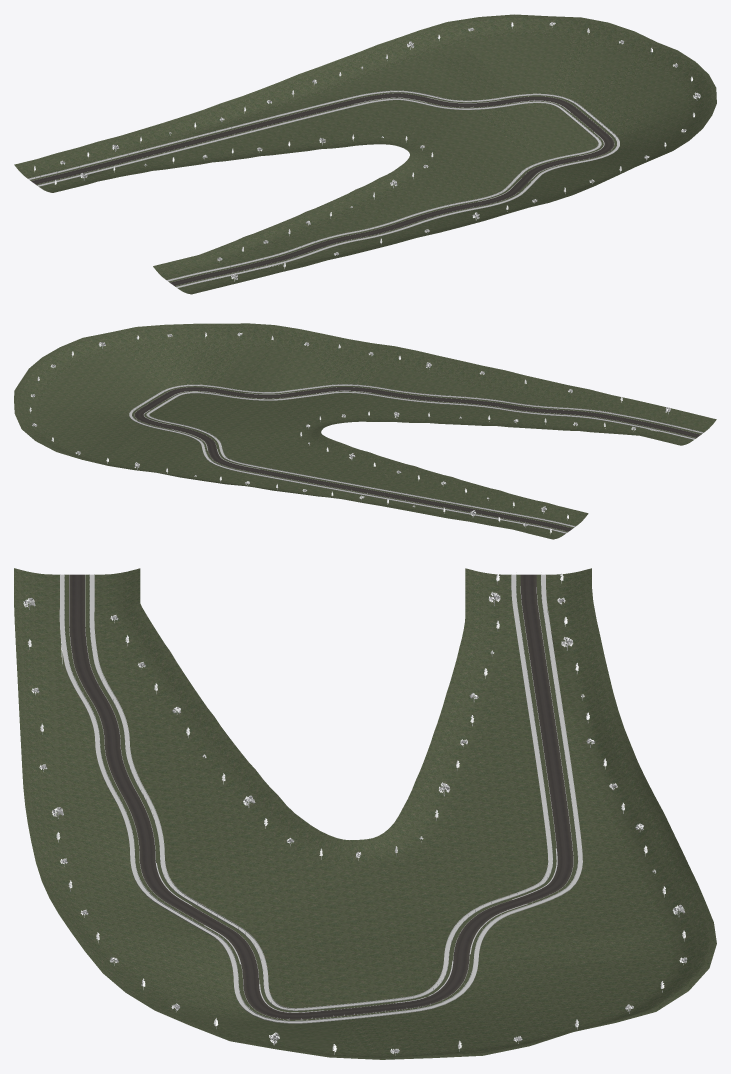
The picture shows the model from 3 angles, top to bottom: view 1: azimuth 30°, elevation 25°; view 2: azimuth 150°, elevation 25°; view 3: azimuth 270°, elevation 25°; orthographic projection. The views are drawn at different scales.
Parts seen in each view (by area): view 1: Grass, Track, Road, Trees; view 2: Grass, Track, Road, Trees; view 3: Grass, Road, Track, Trees.
Boxes of the visible parts, x1=… form: Grass: x1=14, y1=14, x2=716, y2=294; Track: x1=28, y1=90, x2=619, y2=288; Road: x1=31, y1=93, x2=614, y2=285; Trees: x1=34, y1=22, x2=700, y2=281; Grass: x1=14, y1=323, x2=716, y2=539; Track: x1=129, y1=384, x2=703, y2=533; Road: x1=134, y1=387, x2=700, y2=531; Trees: x1=29, y1=332, x2=670, y2=533; Grass: x1=14, y1=568, x2=716, y2=1059; Road: x1=69, y1=574, x2=573, y2=1019; Track: x1=59, y1=574, x2=582, y2=1023; Trees: x1=23, y1=573, x2=687, y2=1055.
Size of what is drawn, in the model's own units: 128527 by 7256 by 77853.
